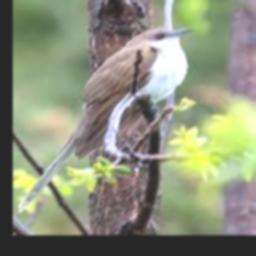Cuckoo: (18, 27, 195, 213)
